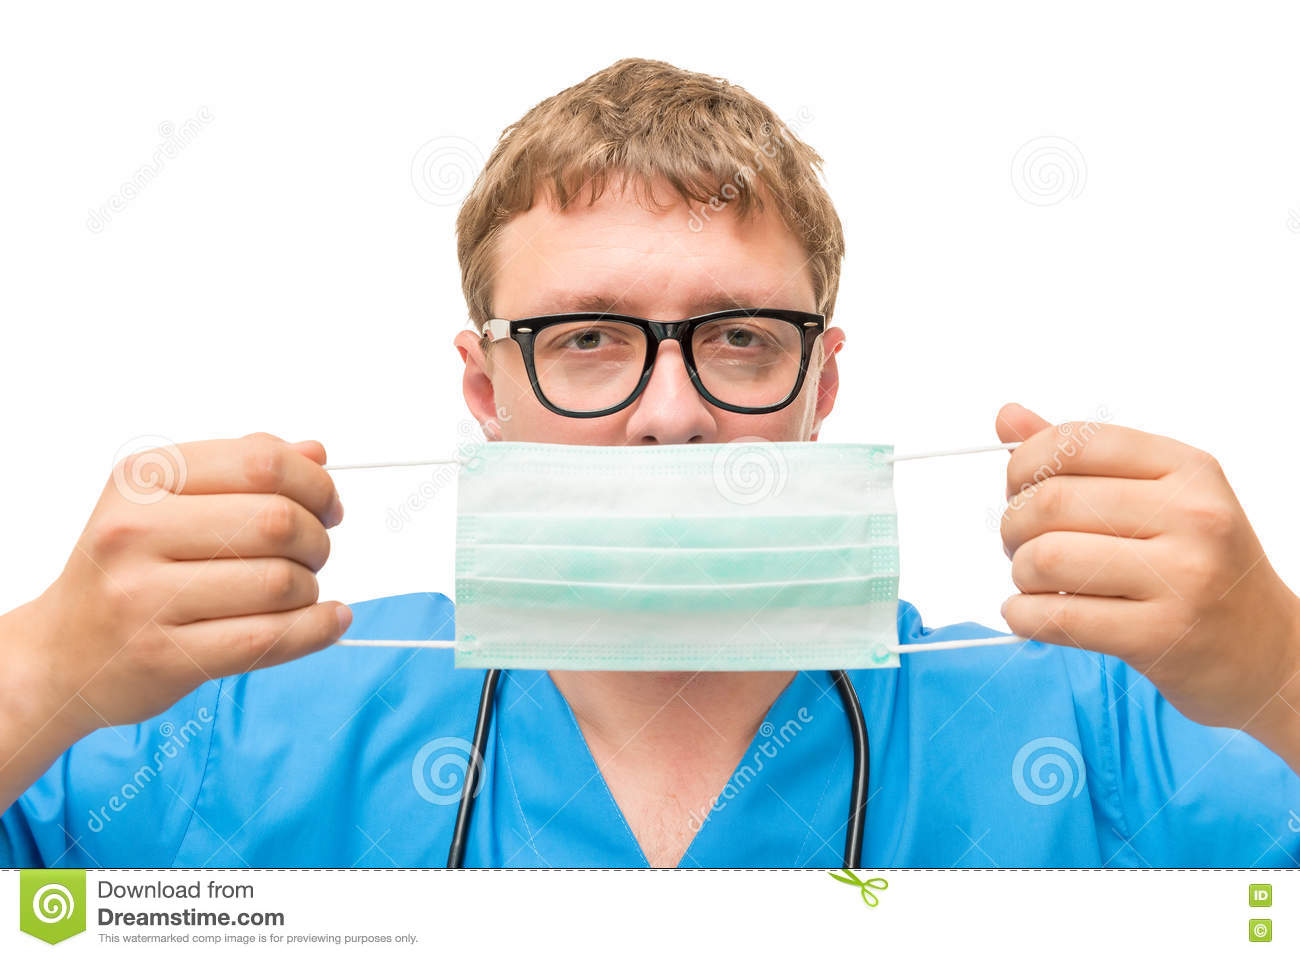mask: (432, 429, 928, 707)
